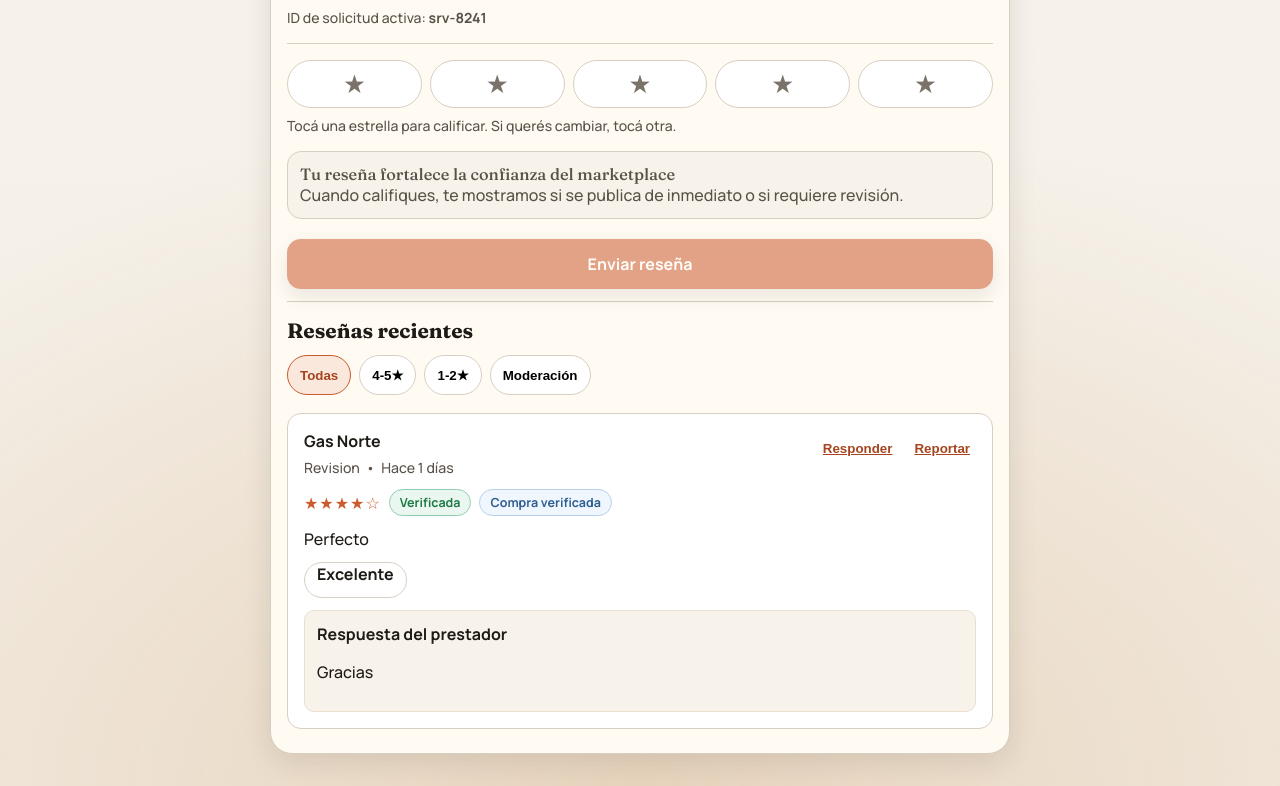
MobileReviewFlow › closes report modal with Escape and restores focus to invoking control
The width and height of the screenshot is (1280, 786).
(page scrolled)
Click the button with aria-label "Reportar reseña de Gas Norte". click: (942, 448)
box: [908,430,976,466]
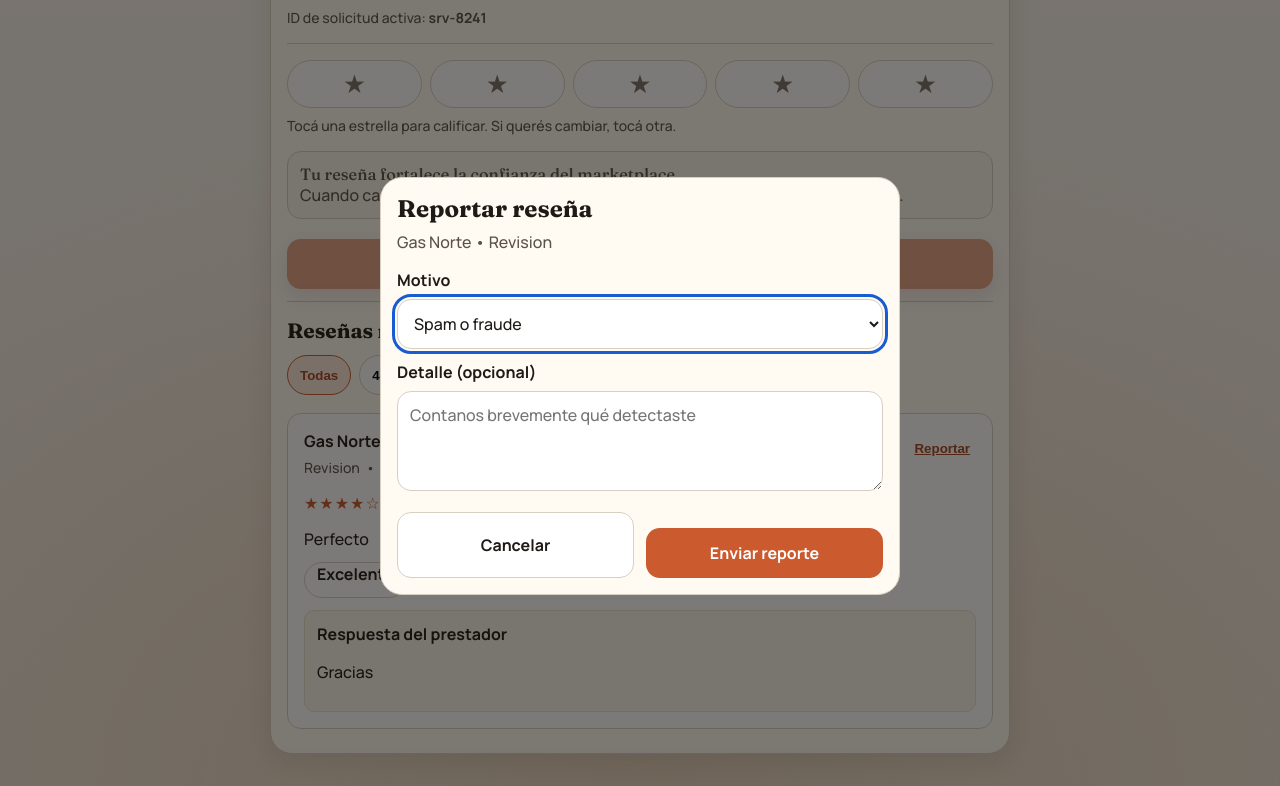
Result: the dialog "Reportar reseña" is shown at [380,177,900,595]
Press Escape
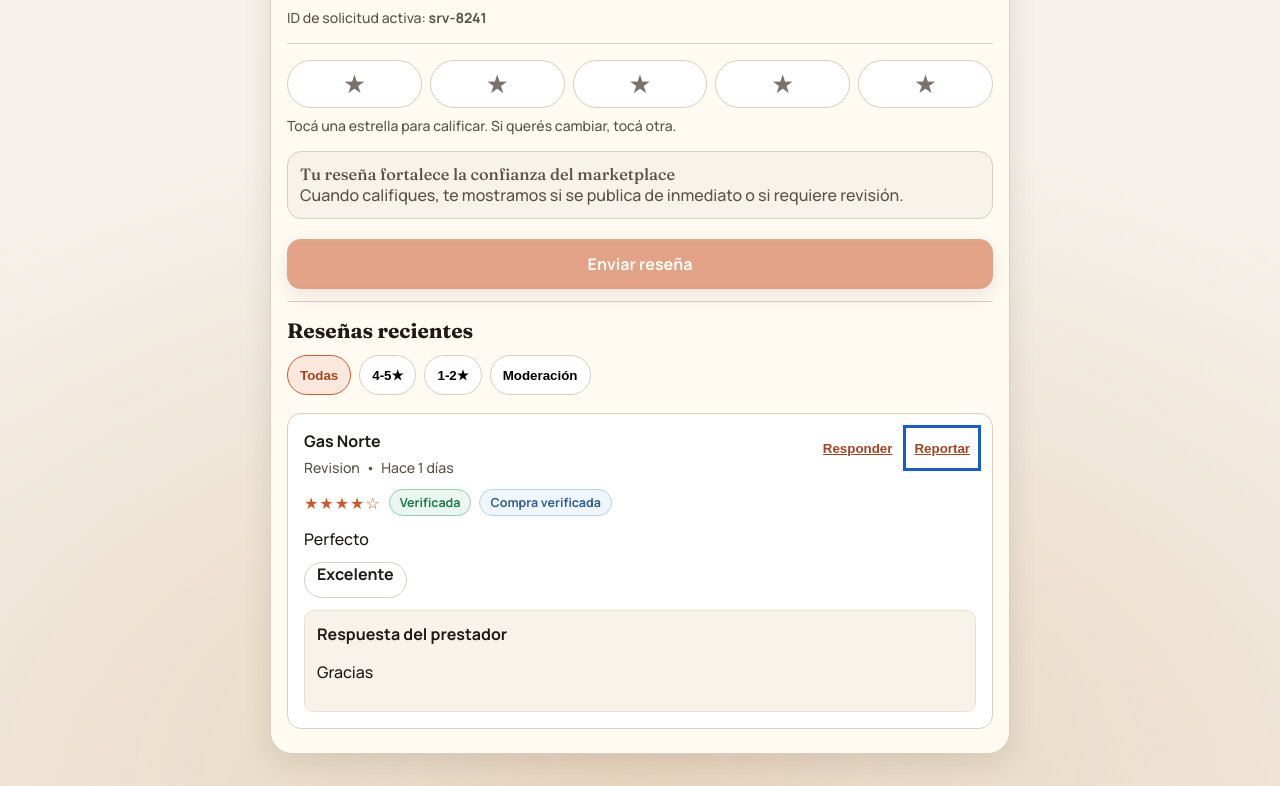
Result: the heading "Reportar reseña" is gone
